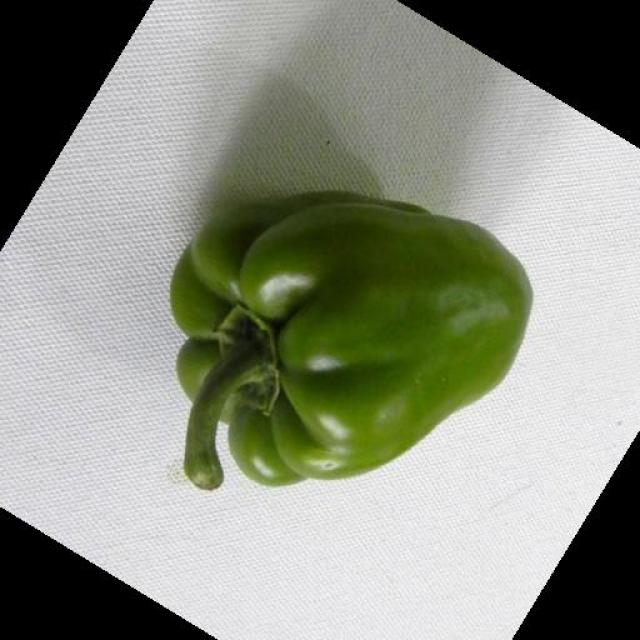Fresh_Capsicum: (181, 202, 523, 464)
